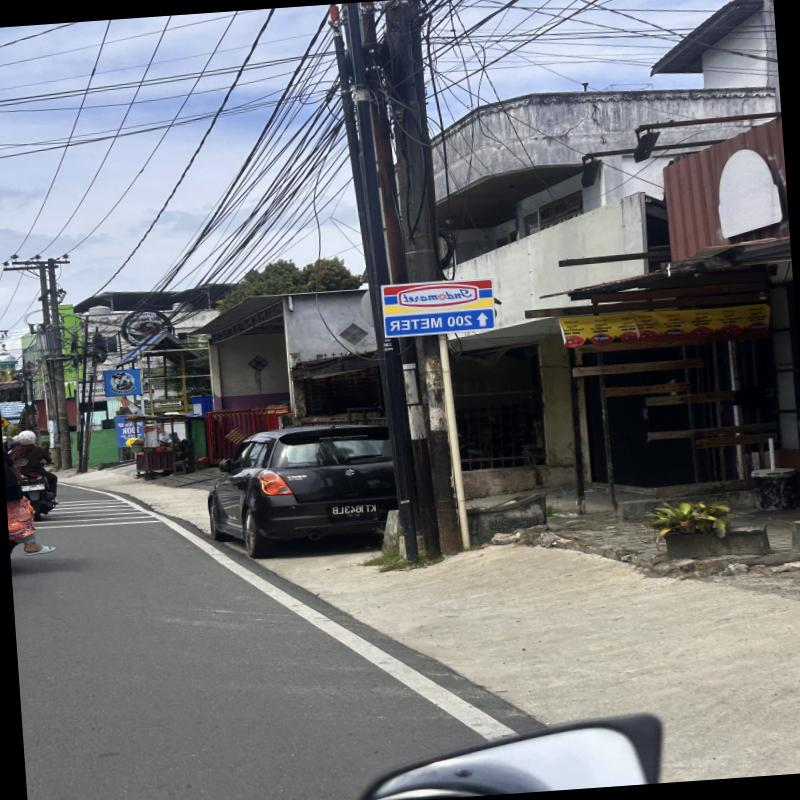license plate on a car: (327, 502, 377, 518)
